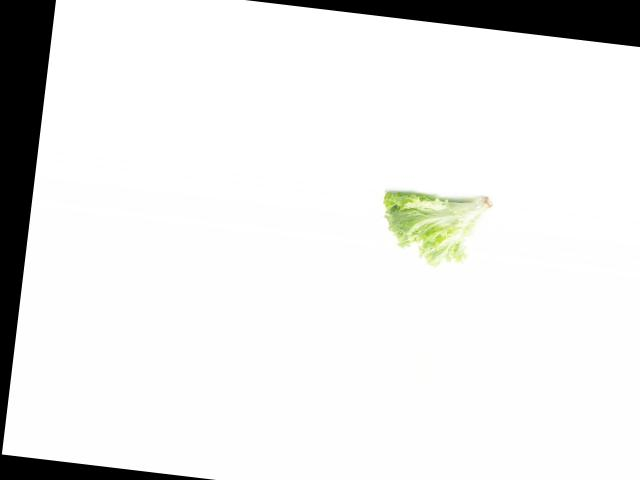lettuce: (376, 182, 496, 273)
